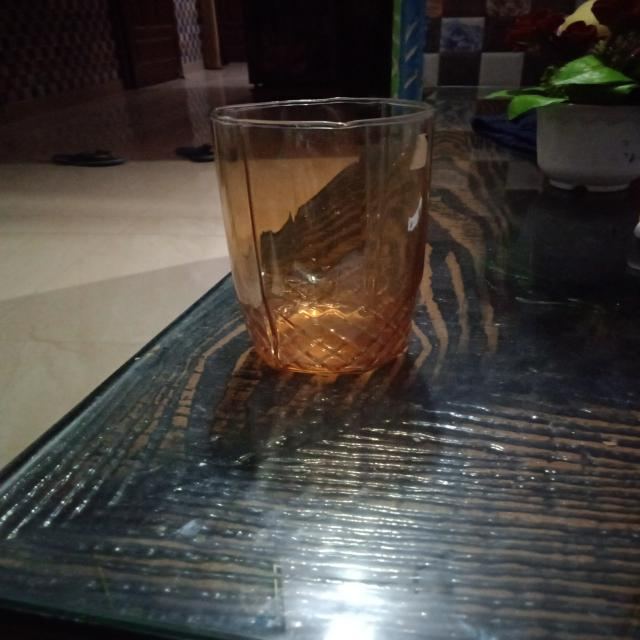Glass: (206, 93, 440, 377)
